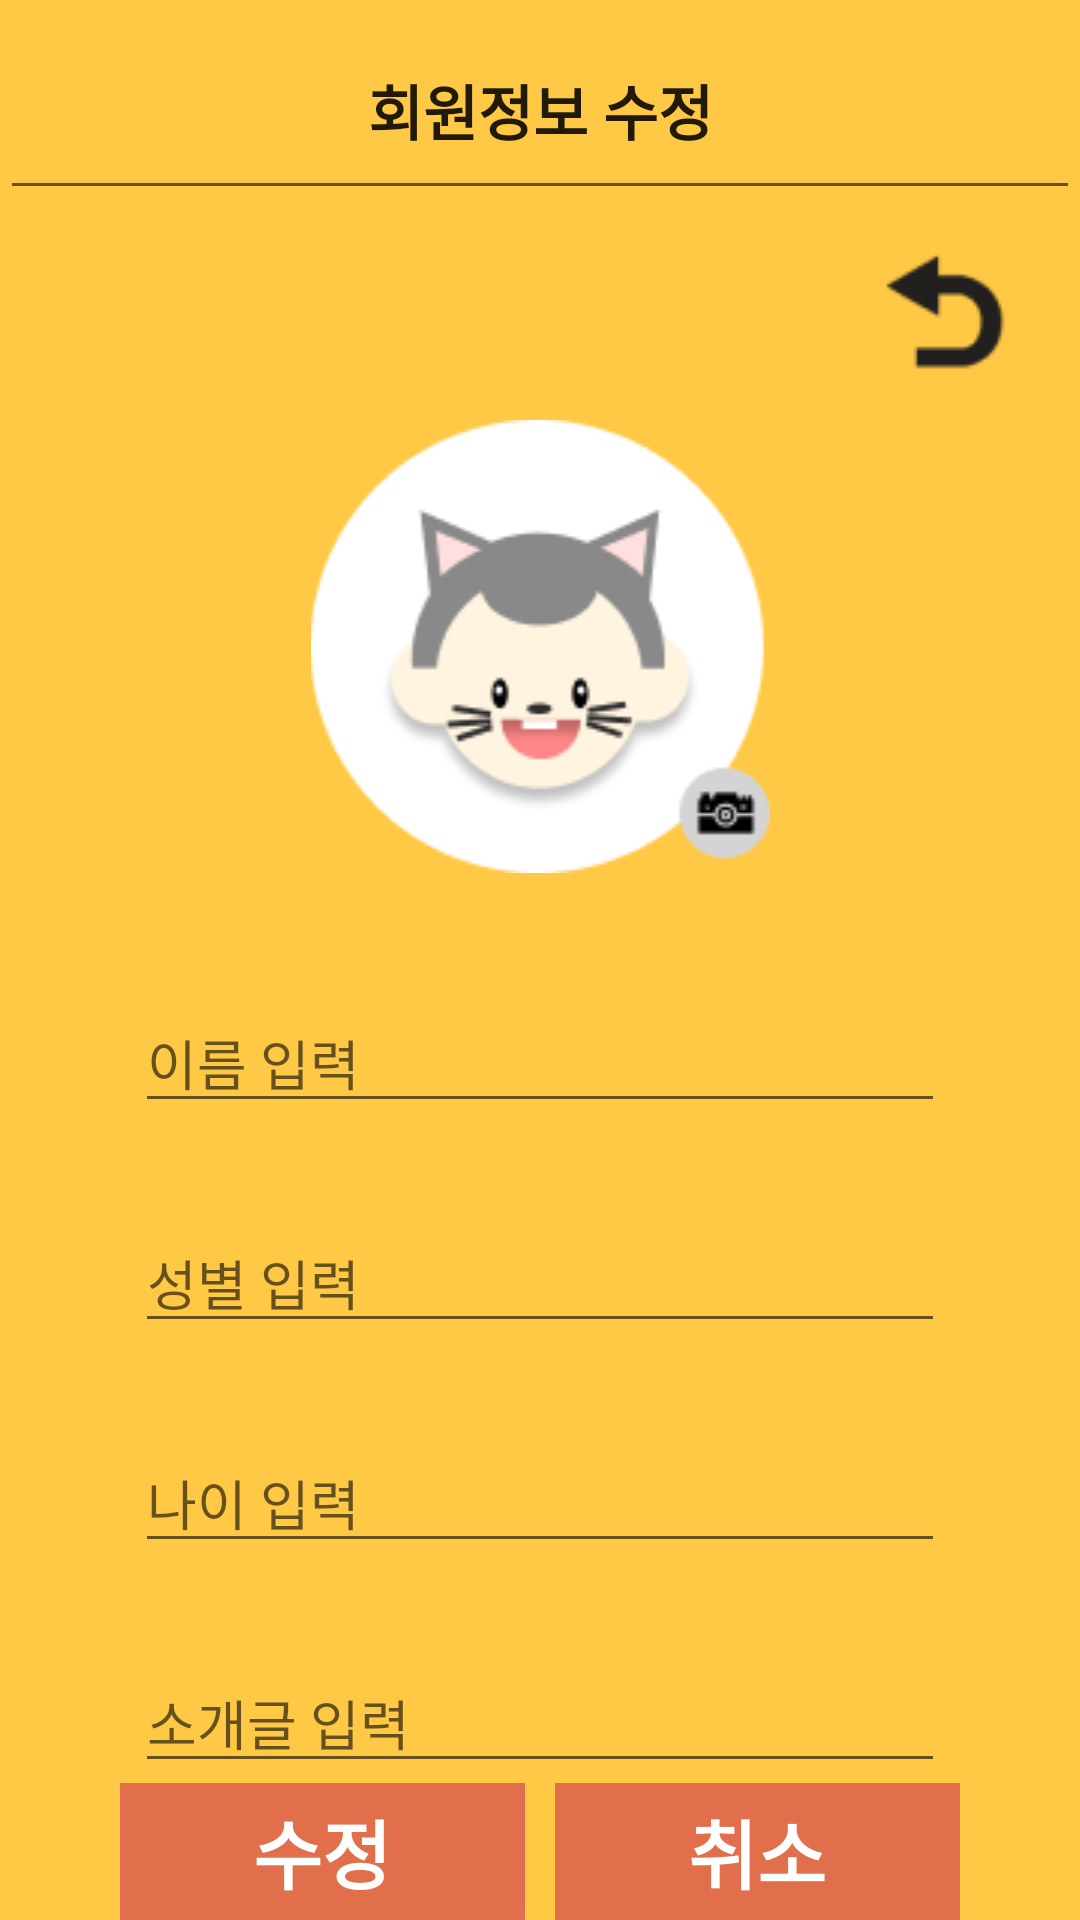

Point at icon controls on the screen. Image size 1080w x 1920h, points as point (x, y).
back: point (945, 312)
